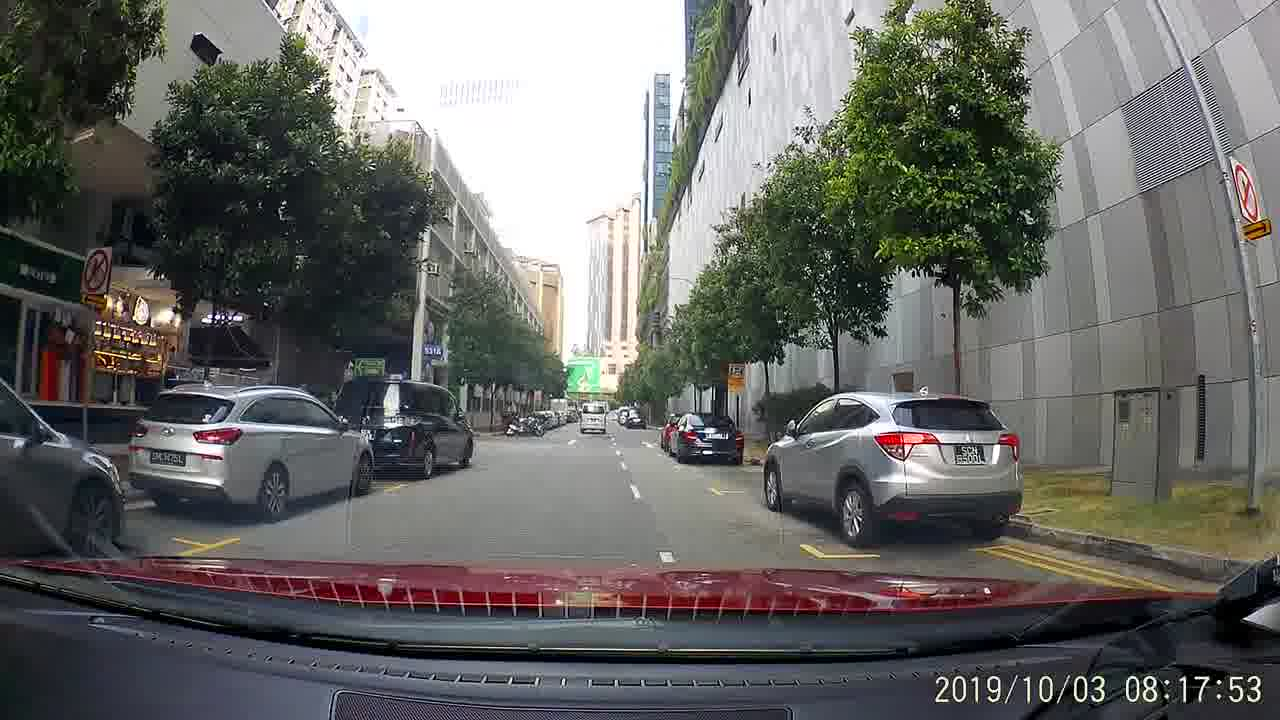car: (762, 390, 1022, 548), (119, 385, 379, 521), (0, 373, 125, 558), (330, 372, 472, 482), (661, 410, 745, 464)
